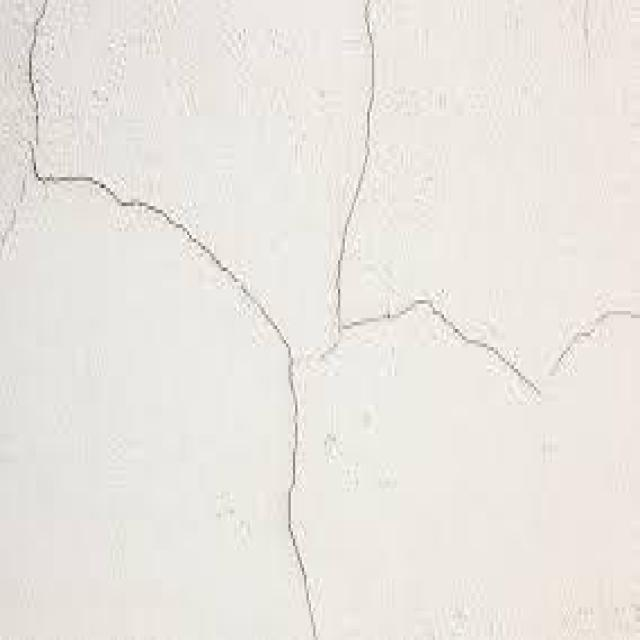Rachadura: (0, 0, 638, 636)
